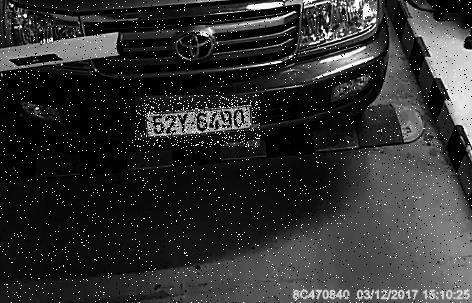License-plate: (136, 97, 261, 149)
